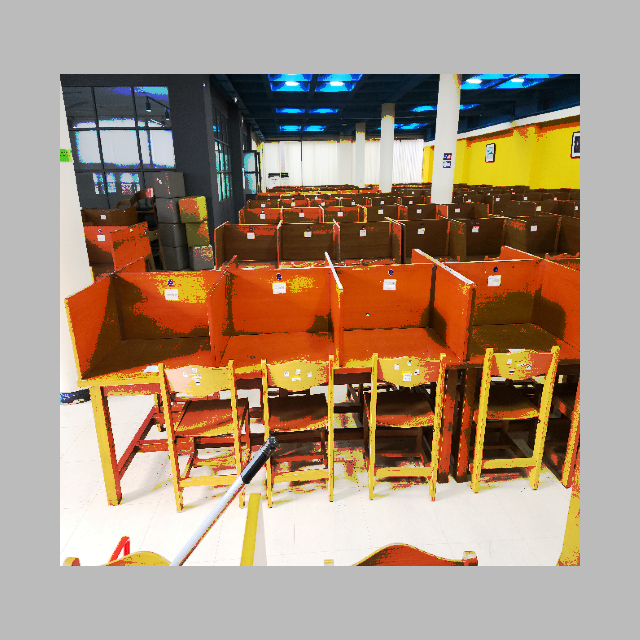empty: (74, 280, 215, 420), (346, 258, 470, 403), (219, 265, 340, 411)
